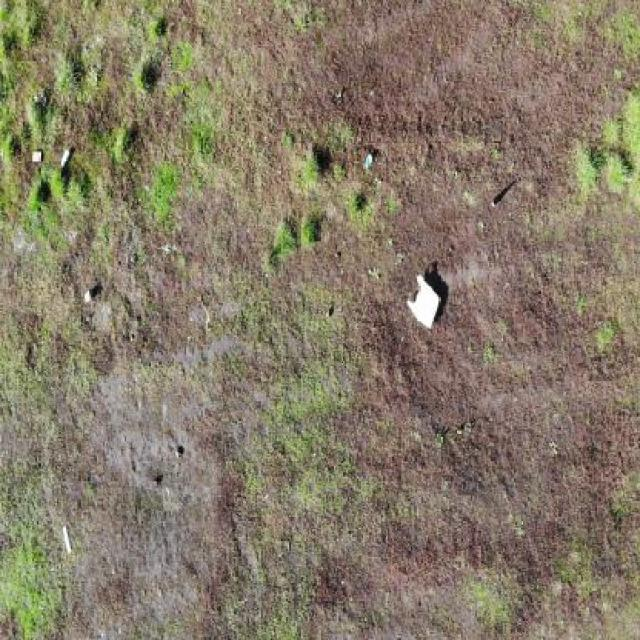Garbage: (404, 274, 441, 330), (62, 522, 72, 554), (59, 149, 70, 171), (364, 152, 374, 172), (83, 287, 94, 303), (32, 150, 42, 164)
